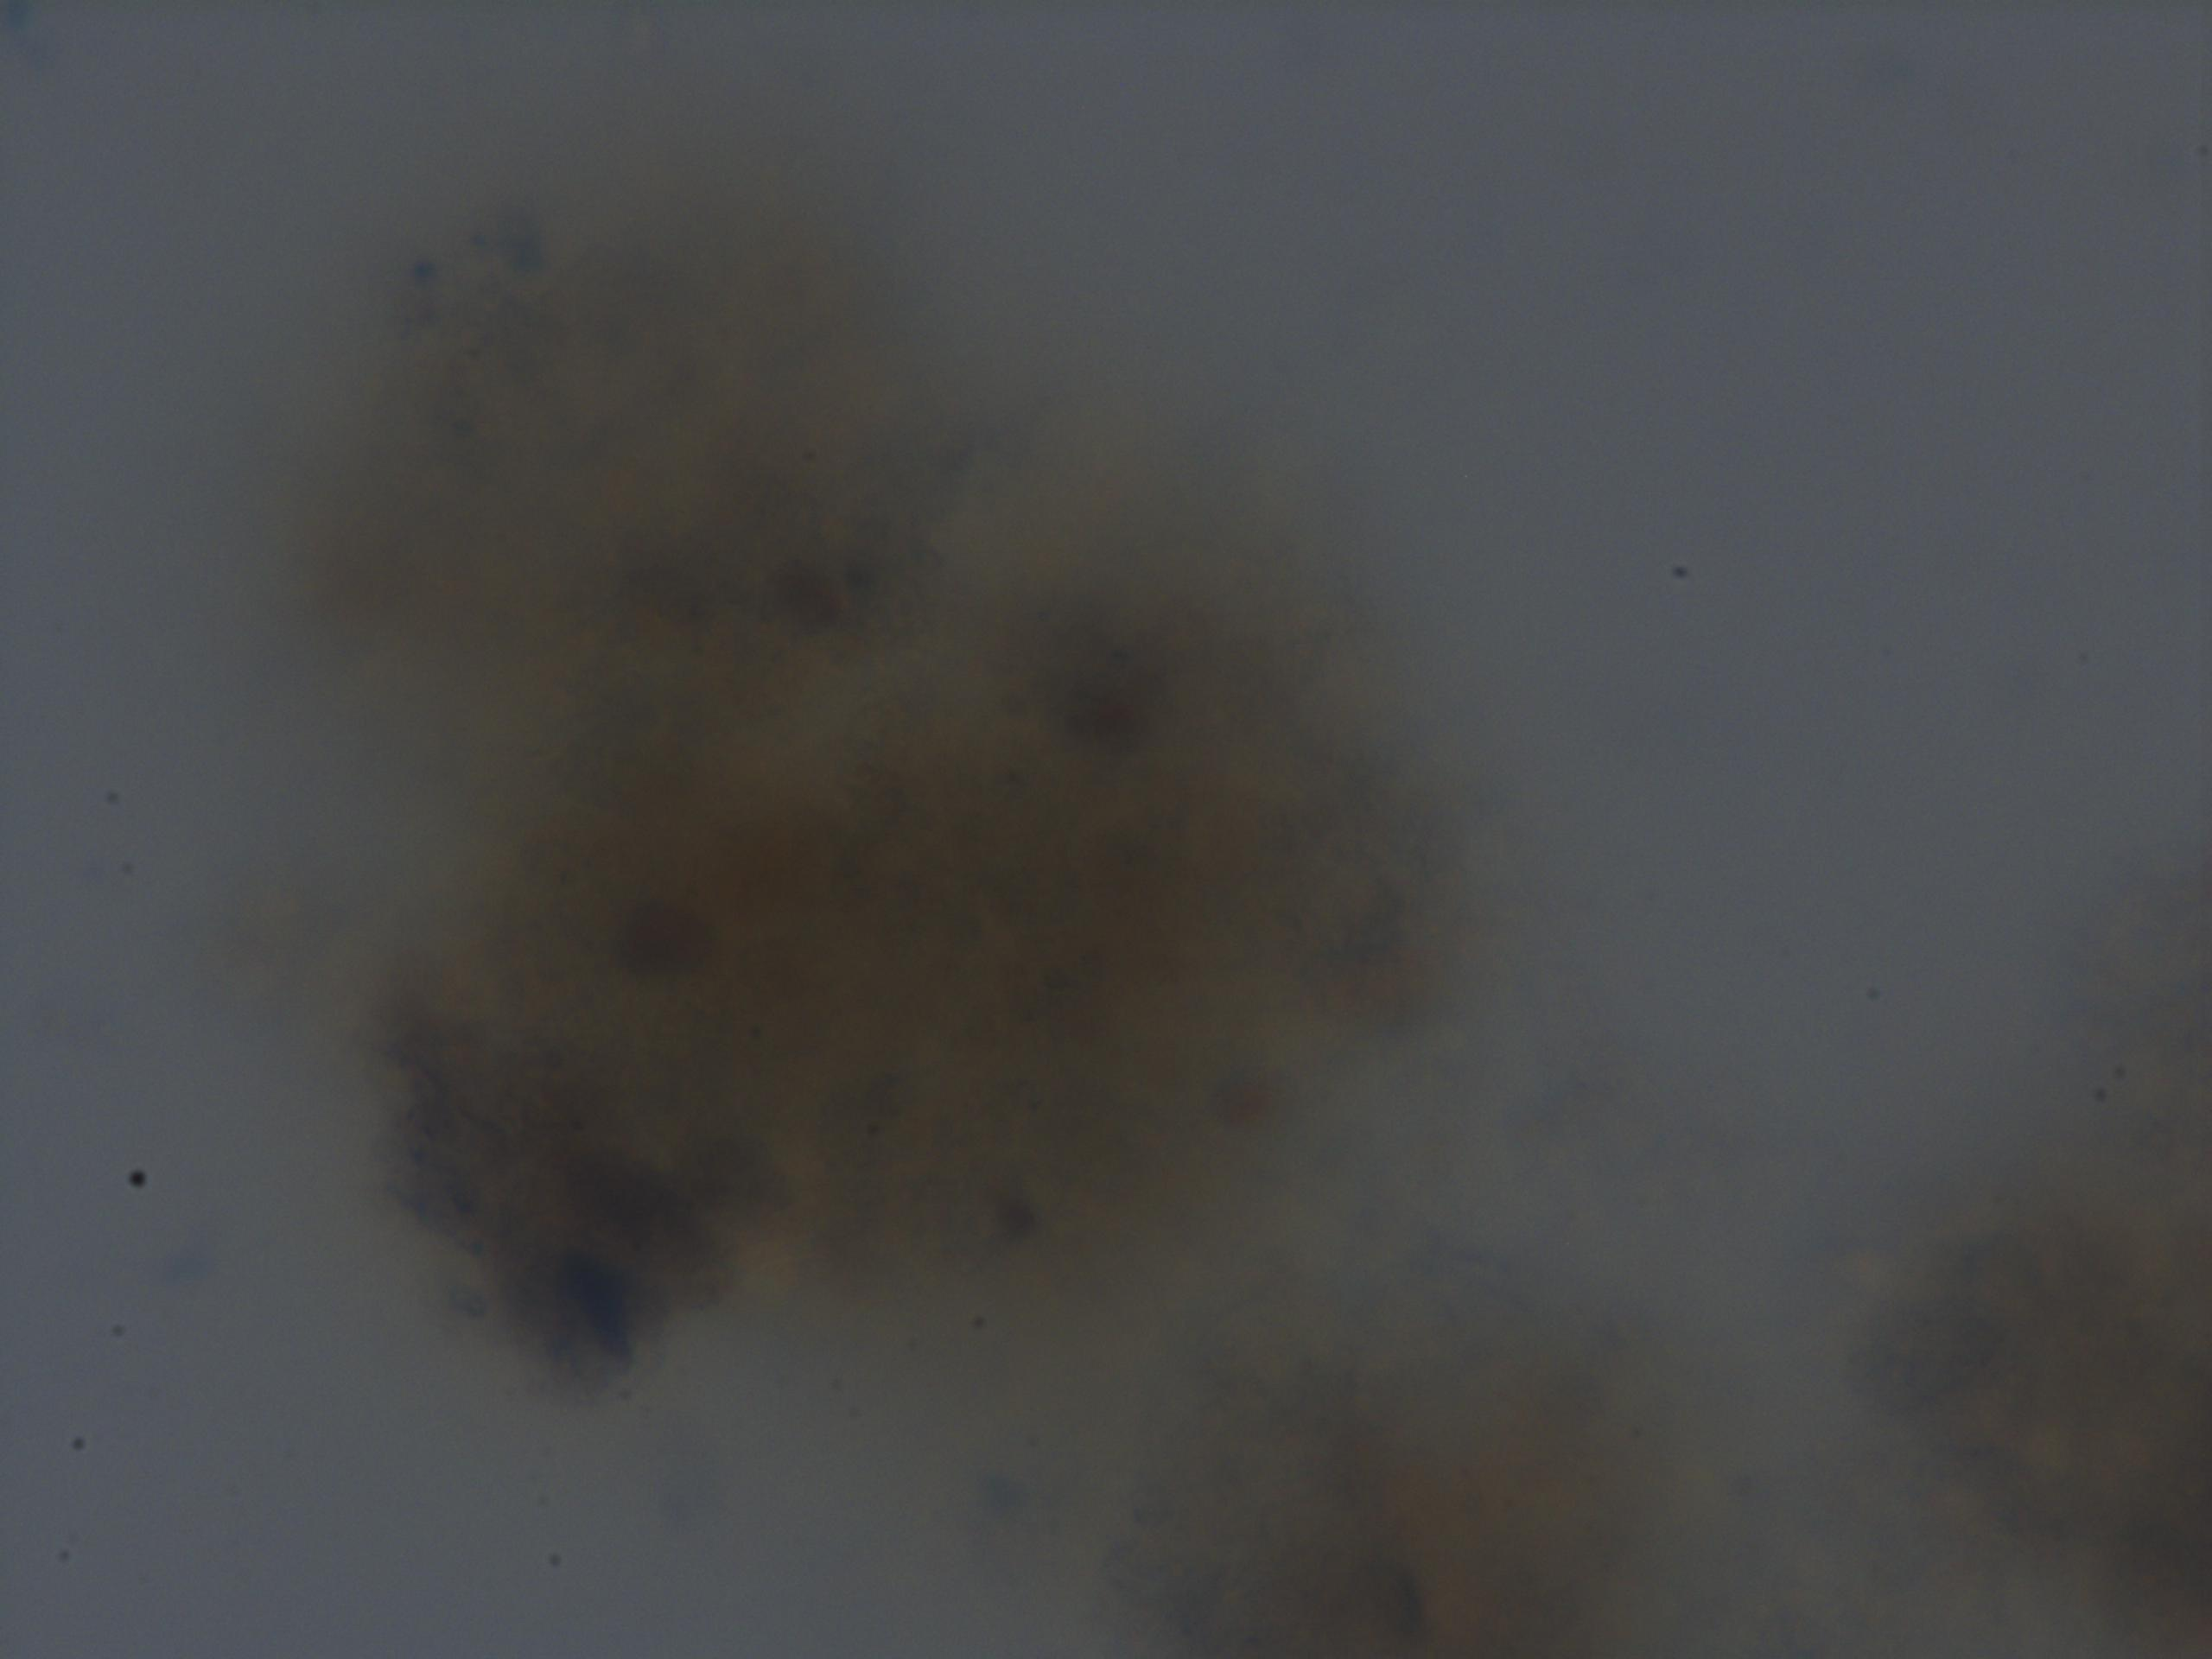spherical_floc: (263, 173, 1501, 1394)
